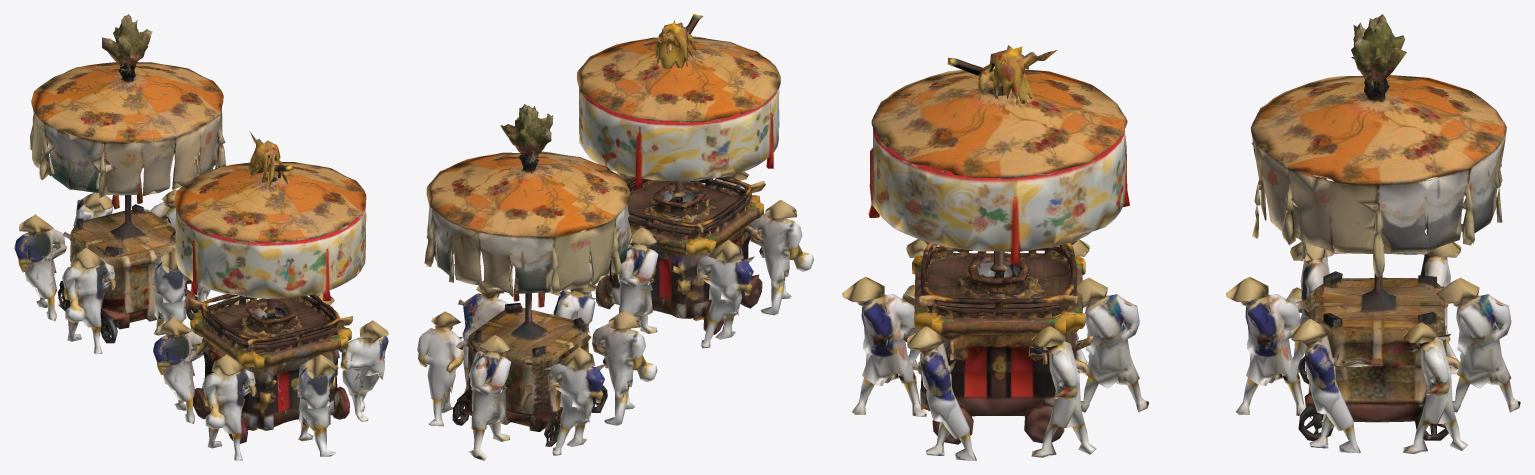
Rendered from 綾傘鉾.glb.
3 renders of one model, left to right at view 1: azimuth 30°, elevation 25°; view 2: azimuth 150°, elevation 25°; view 3: azimuth 270°, elevation 25°, orthographic. The views are drawn at different scales.
Parts seen in each view (by area): view 1: Mesh1.001, Mesh1.0, Mesh1.006, Mesh1.005, Mesh1.003, Mesh1.002, Mesh1.004; view 2: Mesh1.001, Mesh1.0, Mesh1.006, Mesh1.002, Mesh1.004, Mesh1.003, Mesh1.005; view 3: Mesh1.001, Mesh1.0, Mesh1.006, Mesh1.003, Mesh1.002, Mesh1.005, Mesh1.004.
Boxes of the visible parts, <box> form: Mesh1.001: <box>29,14,225,343</box>; Mesh1.0: <box>175,131,366,443</box>; Mesh1.006: <box>174,161,366,243</box>; Mesh1.005: <box>202,320,388,460</box>; Mesh1.003: <box>62,247,210,354</box>; Mesh1.002: <box>14,189,176,321</box>; Mesh1.004: <box>153,292,334,423</box>; Mesh1.001: <box>424,104,632,446</box>; Mesh1.0: <box>579,14,779,334</box>; Mesh1.006: <box>577,36,780,122</box>; Mesh1.002: <box>417,311,605,460</box>; Mesh1.004: <box>581,227,754,348</box>; Mesh1.003: <box>457,280,657,425</box>; Mesh1.005: <box>607,171,813,315</box>; Mesh1.001: <box>1251,14,1506,440</box>; Mesh1.0: <box>868,45,1129,444</box>; Mesh1.006: <box>871,69,1127,178</box>; Mesh1.003: <box>1226,241,1360,453</box>; Mesh1.002: <box>1403,242,1520,454</box>; Mesh1.005: <box>842,239,976,460</box>; Mesh1.004: <box>1028,239,1149,457</box>.
Bounding box in the file's own units: 3.51 × 5.26 × 8.12.
2 materials, 2 textured.
